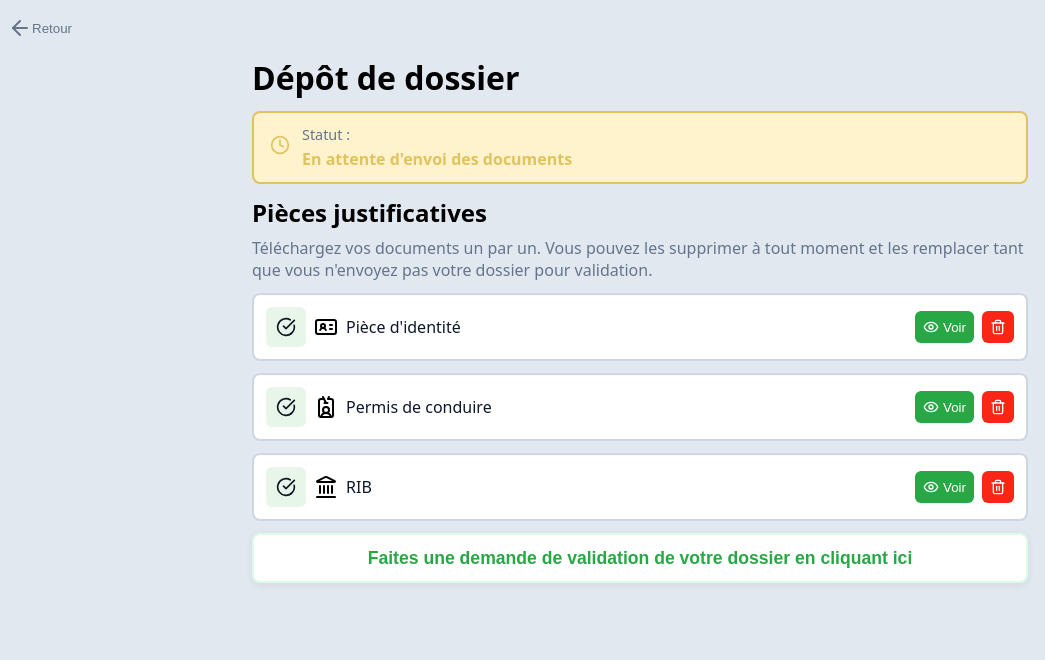
Test case: FolderToCompleteComponent › should show success message after submission
The width and height of the screenshot is (1045, 660).
Click the button "Faites une demande de validation": (640, 558) x1=252 y1=533 x2=1028 y2=583
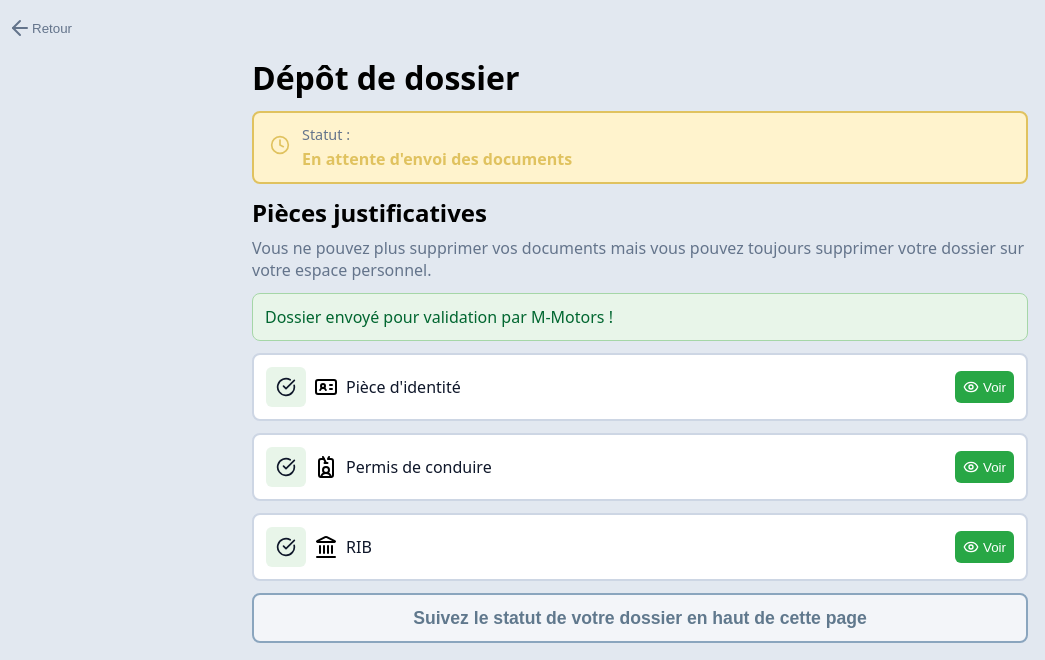
Expected: the text "Dossier envoyé pour validation par M-Motors !" is shown, x1=252 y1=293 x2=1028 y2=341
